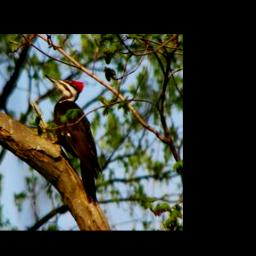Woodpecker: (41, 71, 103, 207)
